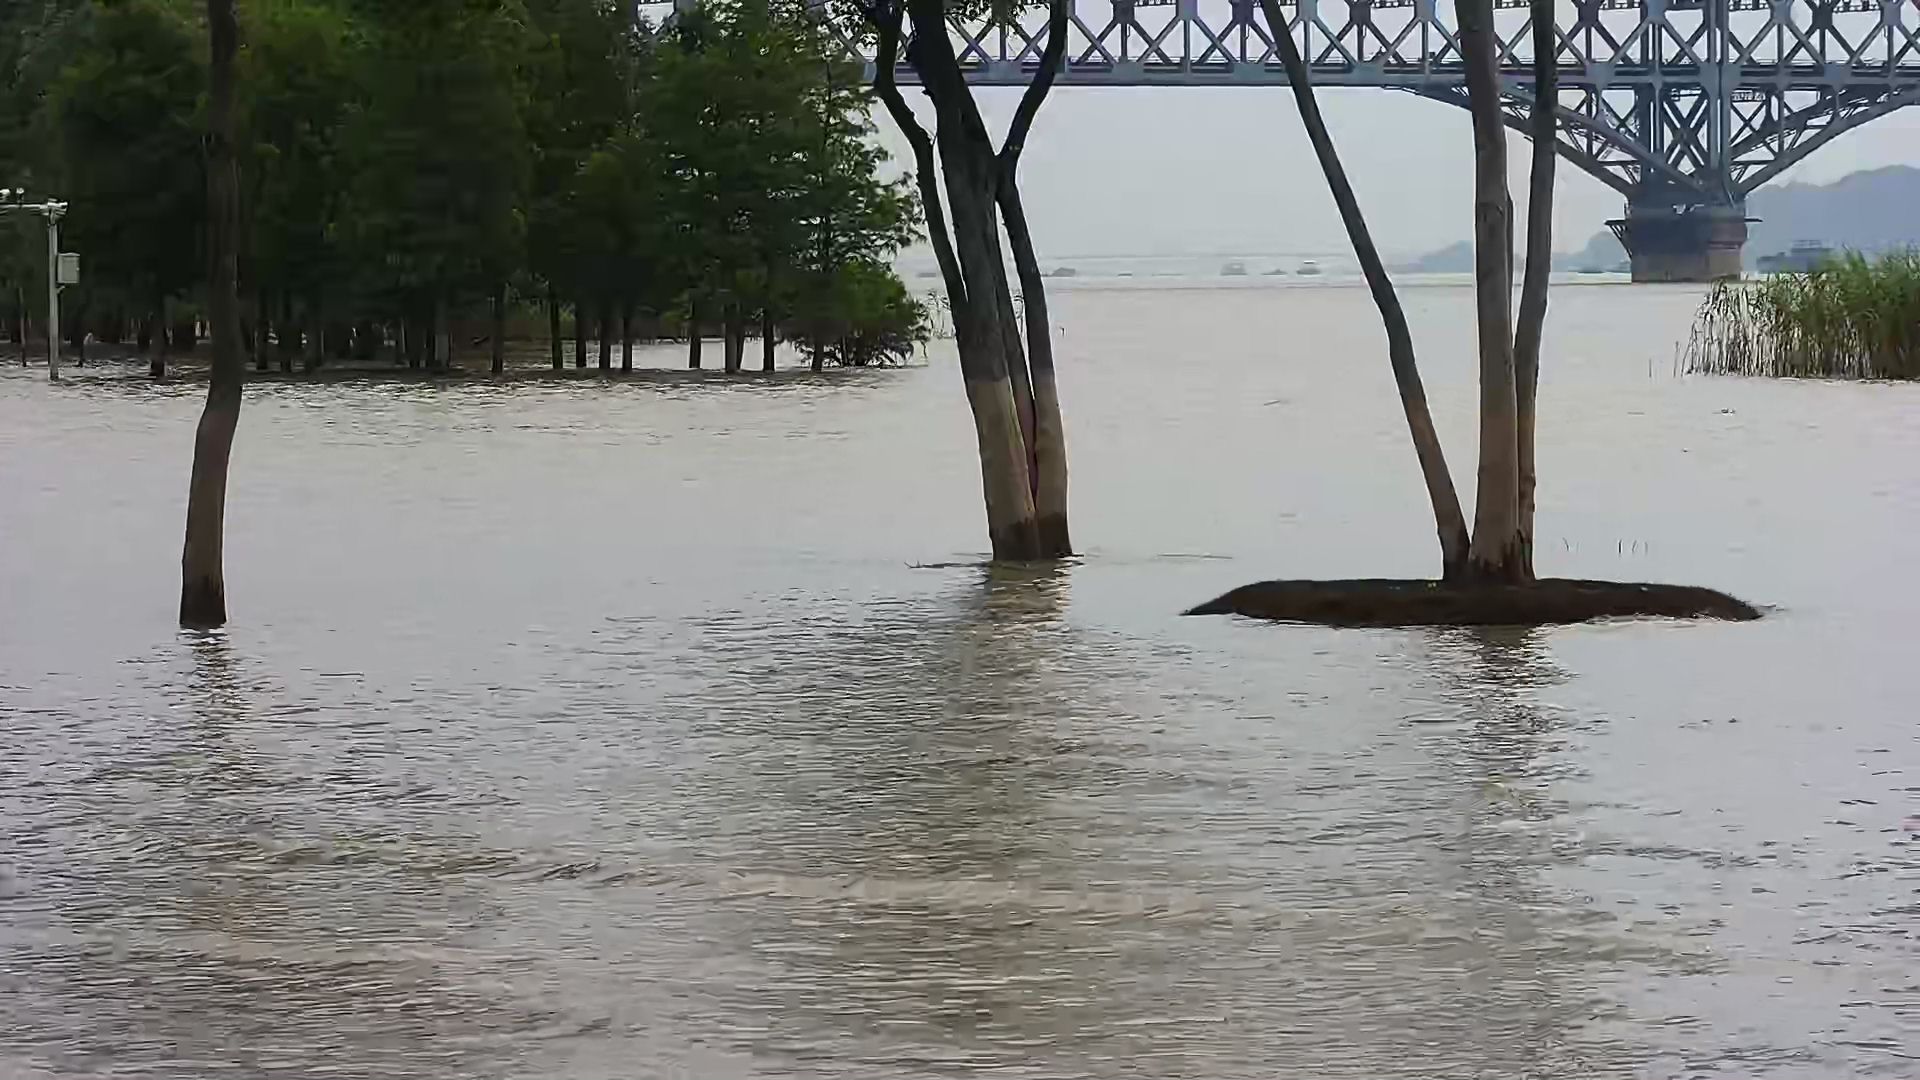bridge: (870, 7, 1920, 284)
grass: (1680, 253, 1920, 380)
mast: (1, 189, 79, 382)
tree: (1183, 1, 1760, 621), (541, 7, 920, 375), (876, 3, 1069, 578), (332, 3, 525, 381), (21, 1, 193, 389), (521, 7, 688, 380), (244, 3, 368, 380), (179, 1, 247, 622)
